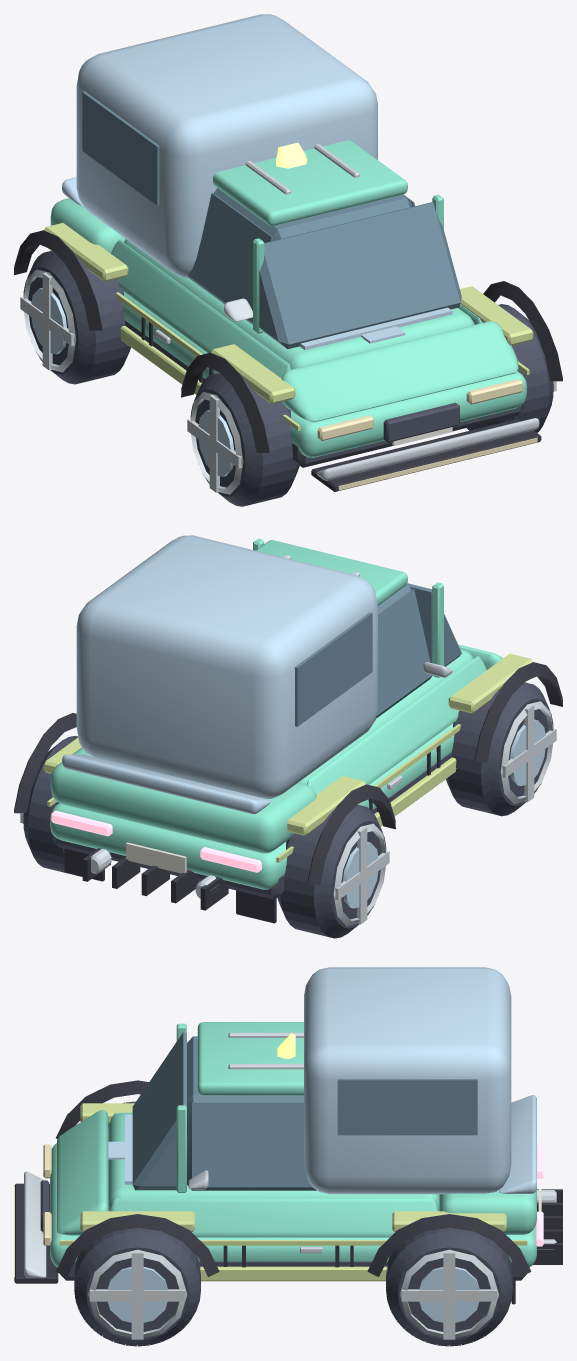
File: corner_crawler.fbx
3 renders of one model, top to bottom at view 1: azimuth 30°, elevation 25°; view 2: azimuth 150°, elevation 25°; view 3: azimuth 270°, elevation 25°, orthographic. The views are drawn at different scales.
Parts seen in each view (by area): view 1: Accent3, Body, Glass, Trim, Accent, Wheel_FR, Wheel_RR, Metal, Accent2, Trim2, Wheel_FL, Light (+2 smaller); view 2: Accent3, Body, Glass, Trim, Wheel_RR, Accent, Wheel_FR, Metal, Wheel_RL, Metal2, Light2, Trim2 (+1 smaller); view 3: Accent3, Body, Glass, Trim, Metal, Wheel_FL, Wheel_RL, Accent, Metal2, Accent2, Trim2, Light (+1 smaller).
Part boxes in pixels (x1,y1,x2,y2): Accent3: (62,14,452,350); Body: (50,140,526,457); Glass: (82,91,461,349); Trim: (14,230,562,491); Accent: (44,223,533,430); Wheel_FR: (190,373,299,506); Wheel_RR: (23,250,130,384); Metal: (20,269,556,494); Accent2: (224,144,539,480); Trim2: (124,320,523,467); Wheel_FL: (467,304,553,432); Light: (317,379,537,490); Accent3: (62,535,377,814); Body: (50,538,526,889); Glass: (294,583,461,726); Trim: (14,662,562,923); Wheel_RR: (277,804,386,938); Accent: (43,653,532,862); Wheel_FR: (446,682,553,816); Metal: (20,701,556,926); Wheel_RL: (23,736,82,876); Metal2: (342,719,545,908); Light2: (51,810,261,872); Trim2: (53,752,451,899); Accent3: (125,967,536,1194); Body: (50,1022,536,1267); Glass: (132,1032,477,1190); Trim: (14,1080,562,1304); Metal: (88,1190,556,1339); Wheel_FL: (74,1227,200,1346); Wheel_RL: (386,1227,512,1346); Accent: (59,1103,527,1281); Metal2: (107,1267,479,1322); Accent2: (24,1032,303,1277); Trim2: (40,1180,526,1280); Light: (14,1144,51,1280).
Bounding box in the file's own units: 3.11 × 2.75 × 4.98.
